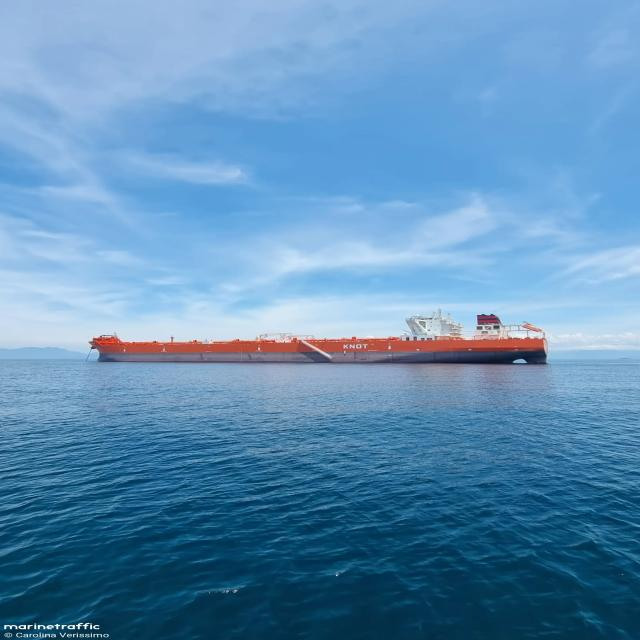Tanker: (90, 309, 548, 364)
